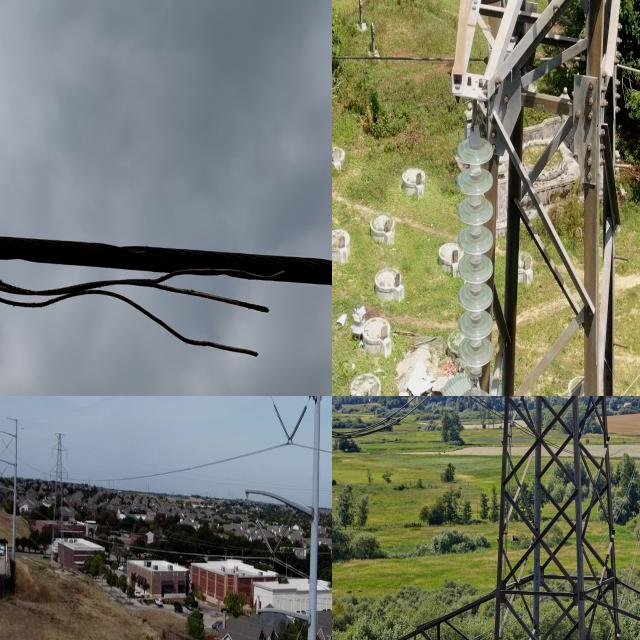杆塔: (449, 0, 637, 396), (385, 396, 640, 640), (48, 426, 77, 562)
正常电缆: (332, 48, 443, 71)
正常绝缘子: (458, 134, 495, 396), (284, 403, 309, 449), (269, 516, 294, 560), (253, 516, 277, 558), (272, 402, 294, 446)
电缆破损: (0, 222, 282, 363)
绝缘子破损: (469, 371, 481, 396)
